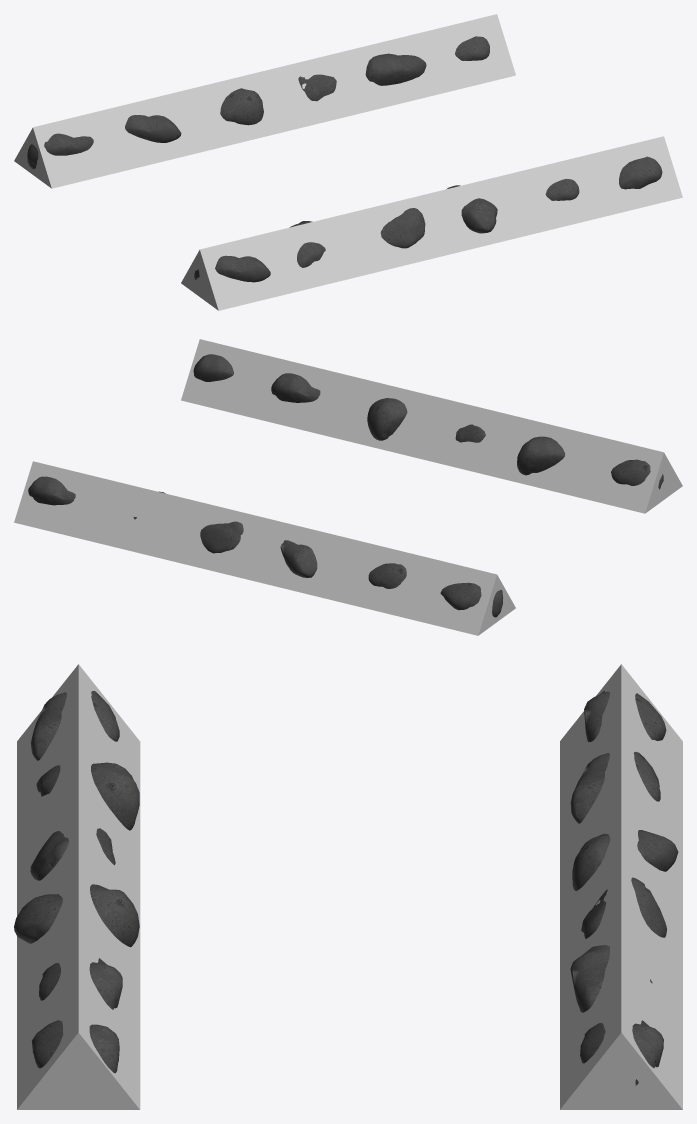
File: SM_stone_road_01.fbx
3 renders of one model, top to bottom at view 1: azimuth 30°, elevation 25°; view 2: azimuth 150°, elevation 25°; view 3: azimuth 270°, elevation 25°, orthographic. The views are drawn at different scales.
Visible parts, largest first — view 1: SM_stone_road_01_ConvexHulls, SM_stone_road_01; view 2: SM_stone_road_01_ConvexHulls, SM_stone_road_01; view 3: SM_stone_road_01_ConvexHulls, SM_stone_road_01.
Part boxes in pixels (x1,y1,x2,y2): SM_stone_road_01_ConvexHulls: (14, 14, 682, 310); SM_stone_road_01: (27, 36, 662, 282); SM_stone_road_01_ConvexHulls: (14, 339, 682, 635); SM_stone_road_01: (28, 354, 663, 617); SM_stone_road_01_ConvexHulls: (17, 664, 682, 1109); SM_stone_road_01: (14, 690, 678, 1085).
Size of the model in its own units: 129 by 97.69 by 12.47.
2 materials, 1 textured.
